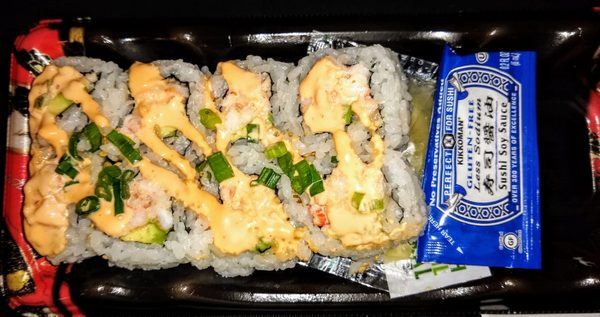curry: (94, 165, 140, 214)
